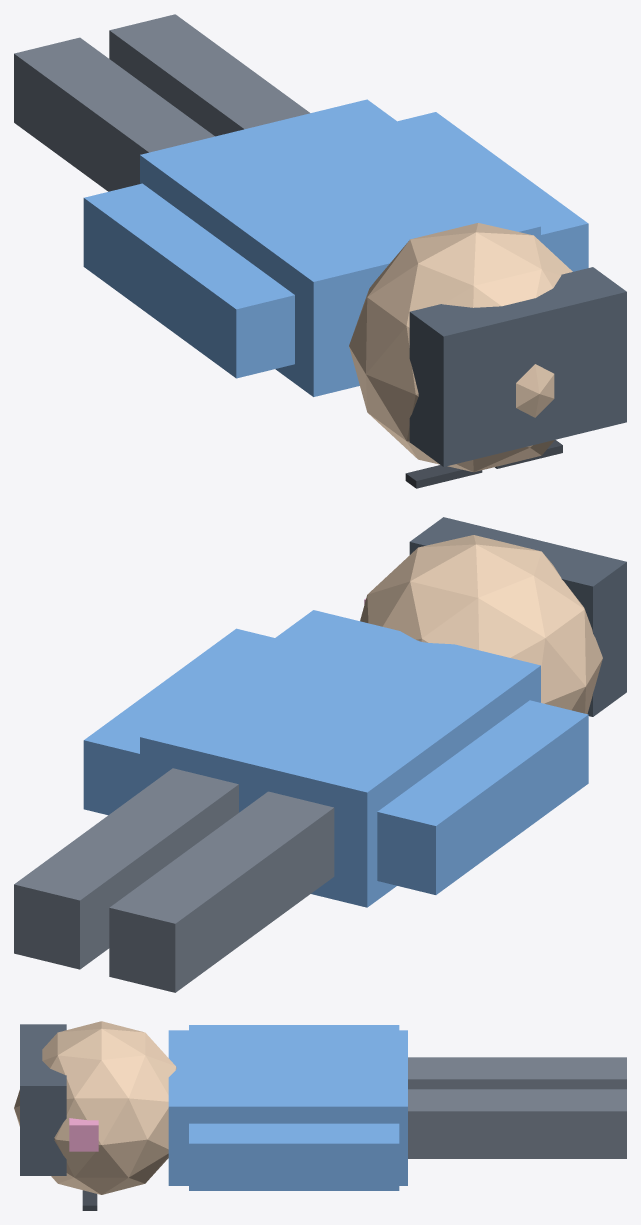
The model's file is junior_variant_1.glb.
3 views of the same model, one above another, from view 1: azimuth 30°, elevation 25°; view 2: azimuth 150°, elevation 25°; view 3: azimuth 270°, elevation 25° (orthographic). The views are drawn at different scales.
Parts seen in each view (by area): view 1: torso_2, hair_6, arm_l_3, head_5, leg_l_0, leg_r_1, arm_r_4, glasses_l_7; view 2: torso_2, leg_l_0, arm_l_3, head_5, leg_r_1, arm_r_4, hair_6; view 3: torso_2, head_5, leg_r_1, arm_r_4, leg_l_0, hair_6, arm_l_3, earring_or_badge_9, glasses_r_8.
Part boxes in pixels (box(x1,y1,x2,y2)): torso_2: box(140, 99, 540, 396); hair_6: box(409, 267, 626, 466); arm_l_3: box(83, 183, 294, 378); head_5: box(349, 223, 572, 472); leg_l_0: box(14, 37, 214, 191); leg_r_1: box(109, 14, 310, 136); arm_r_4: box(397, 112, 588, 271); glasses_l_7: box(405, 465, 482, 488); torso_2: box(140, 610, 540, 907); leg_l_0: box(109, 791, 334, 992); arm_l_3: box(377, 700, 588, 894); head_5: box(360, 535, 602, 714); leg_r_1: box(14, 768, 238, 969); arm_r_4: box(83, 628, 274, 815); hair_6: box(409, 517, 626, 716); torso_2: box(168, 1030, 407, 1185); head_5: box(14, 1021, 176, 1194); leg_r_1: box(408, 1089, 626, 1158); arm_r_4: box(189, 1123, 399, 1190); leg_l_0: box(408, 1057, 626, 1089); hair_6: box(20, 1024, 66, 1175); arm_l_3: box(189, 1025, 399, 1030); earring_or_badge_9: box(69, 1118, 98, 1151); glasses_r_8: box(82, 1190, 97, 1210).
Bounding box in the file's own units: 0.96 × 0.6 × 2.1.
